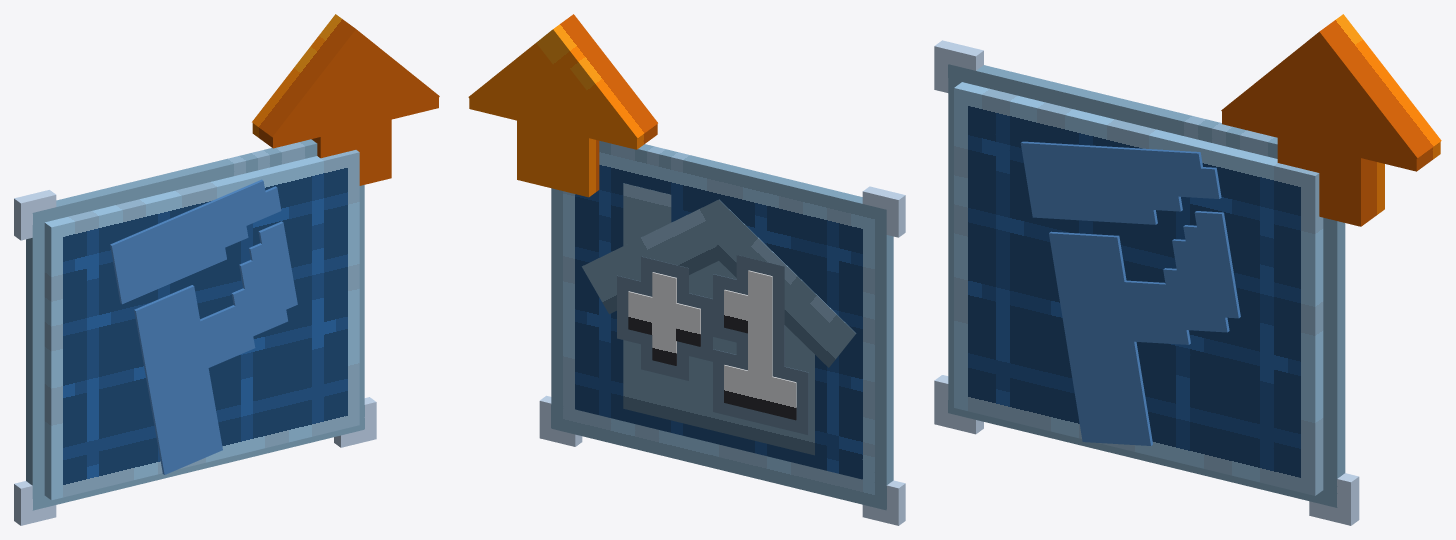
The picture shows the model from 3 angles, left to right: view 1: azimuth 30°, elevation 25°; view 2: azimuth 150°, elevation 25°; view 3: azimuth 330°, elevation 25°; orthographic projection. The views are drawn at different scales.
Visible parts, largest first — view 1: plan-Local, backp-Local, arrow_top-Local, arrow_base-Local, arrow_side_r-Local, arrow_side_l-Local; view 2: plan-Local, house_body-Local, arrow_top-Local, icon_border-Local, icon-Local, arrow_base-Local, house_roof_2-Local, house_roof_1-Local, arrow_side_l-Local, arrow_side_r-Local; view 3: plan-Local, backp-Local, arrow_top-Local, arrow_base-Local, arrow_side_r-Local, arrow_side_l-Local.
Boxes of the visible parts, box(x1,y1,x2,y2) form: plan-Local: box(14, 139, 376, 525); backp-Local: box(110, 179, 297, 474); arrow_top-Local: box(252, 14, 439, 143); arrow_base-Local: box(311, 110, 391, 185); arrow_side_r-Local: box(368, 95, 438, 125); arrow_side_l-Local: box(252, 119, 344, 148); plan-Local: box(539, 141, 905, 525); house_body-Local: box(623, 183, 814, 455); arrow_top-Local: box(468, 14, 657, 144); icon_border-Local: box(617, 255, 808, 435); icon-Local: box(628, 270, 796, 420); arrow_base-Local: box(517, 92, 599, 197); house_roof_2-Local: box(705, 199, 856, 367); house_roof_1-Local: box(582, 200, 724, 314); arrow_side_l-Local: box(565, 120, 657, 149); arrow_side_r-Local: box(469, 97, 516, 120); plan-Local: box(934, 40, 1359, 525); backp-Local: box(1020, 141, 1240, 445); arrow_top-Local: box(1221, 14, 1441, 165); arrow_base-Local: box(1277, 105, 1384, 226); arrow_side_r-Local: box(1333, 141, 1440, 171); arrow_side_l-Local: box(1222, 110, 1277, 137).
Size of the model in its own units: 70.14 by 67.46 by 7.54.
11 materials, 11 textured.
